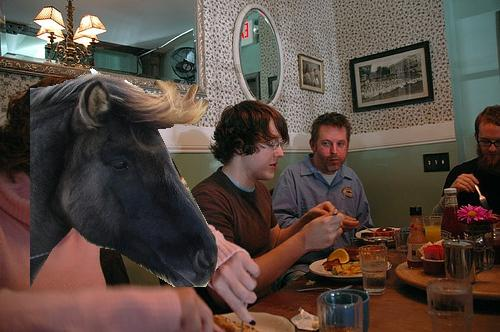tampered: (31, 69, 218, 287)
